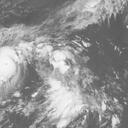cyclone: (23, 38, 92, 103)
